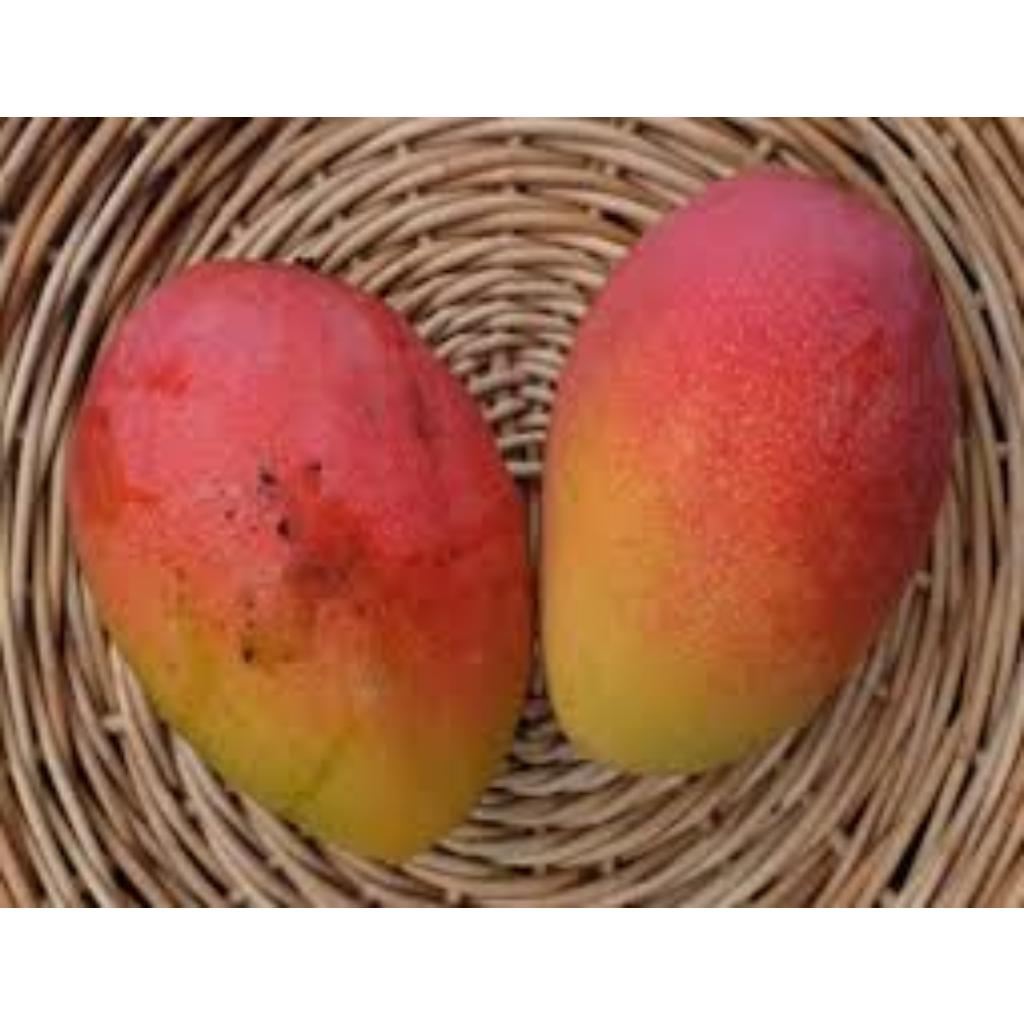mango: (68, 261, 538, 867), (547, 178, 968, 763)
